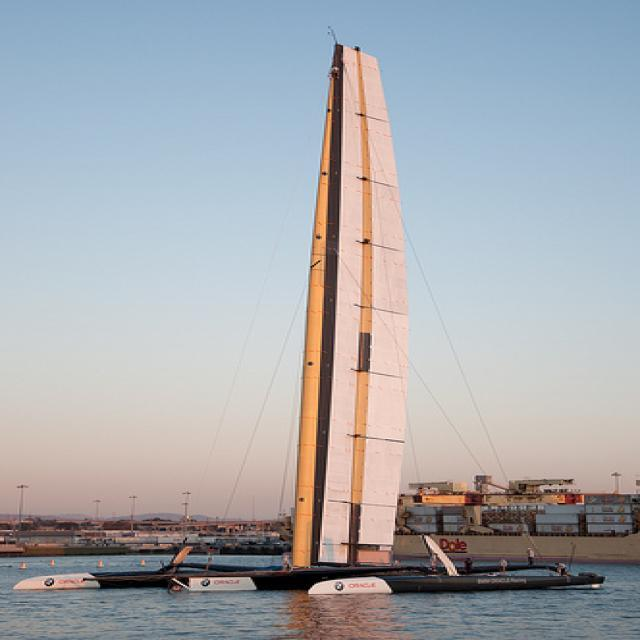Ship: (25, 51, 611, 601)
